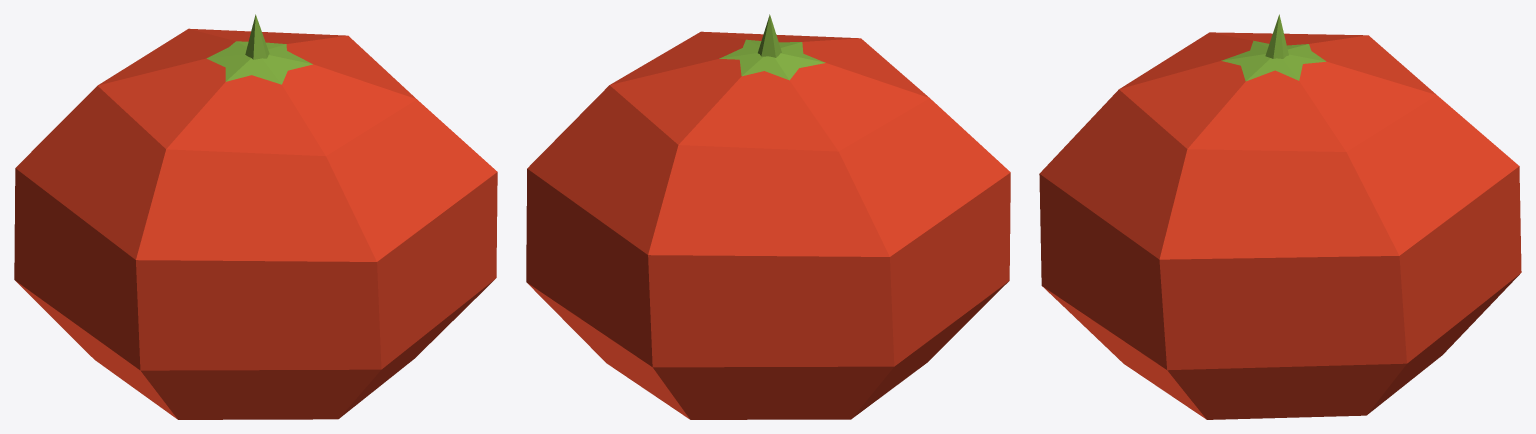
The model's file is Tomato.fbx.
3 views of the same model, side by side, from view 1: azimuth 30°, elevation 25°; view 2: azimuth 150°, elevation 25°; view 3: azimuth 270°, elevation 25° (orthographic).
Parts seen in each view (by area): view 1: Tomato; view 2: Tomato; view 3: Tomato.
Part boxes in pixels (x1,y1,x2,y2): Tomato: (14, 14, 497, 419); Tomato: (526, 14, 1010, 419); Tomato: (1039, 14, 1521, 419).
Size of the model in its own units: 5.94 by 5.7 by 6.79.
